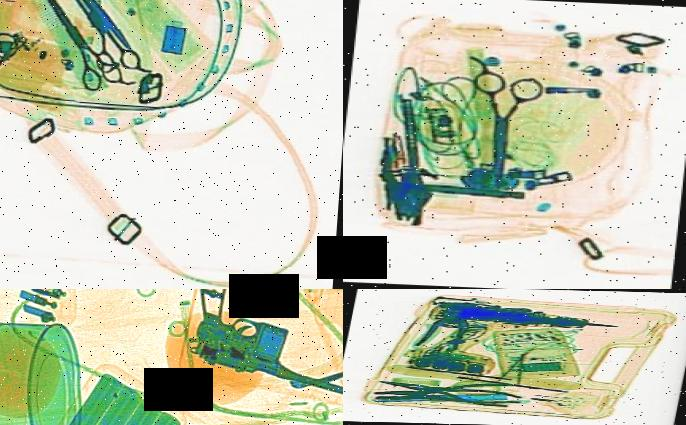Gun: (149, 289, 343, 403)
Pliers: (369, 373, 530, 409), (369, 378, 526, 409), (415, 316, 477, 350)
Scissors: (7, 0, 139, 98), (28, 0, 156, 88), (466, 72, 547, 175), (22, 0, 148, 59)
